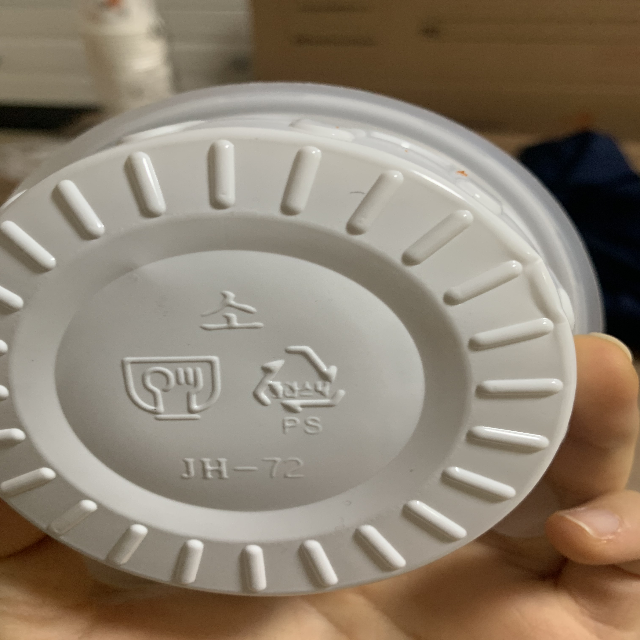ps: (249, 339, 353, 436)
